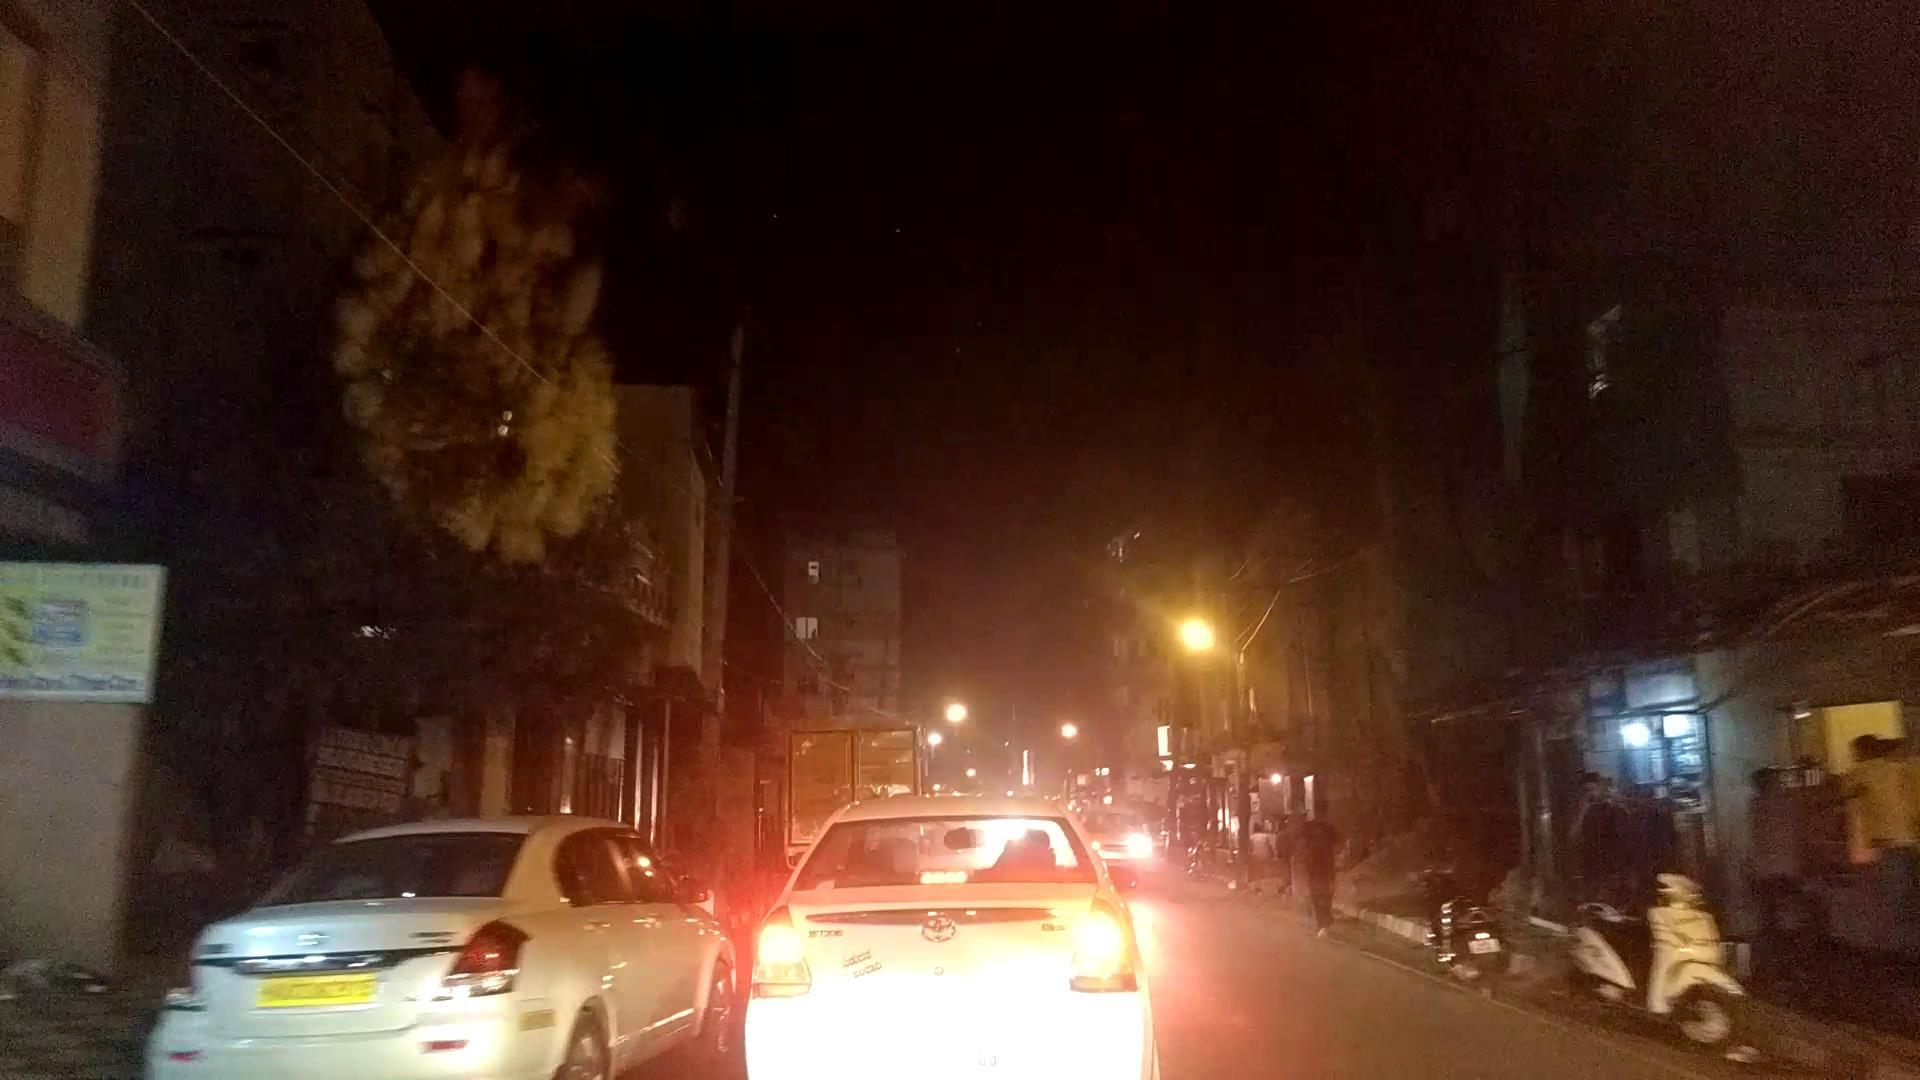on: (1050, 531, 1263, 764)
